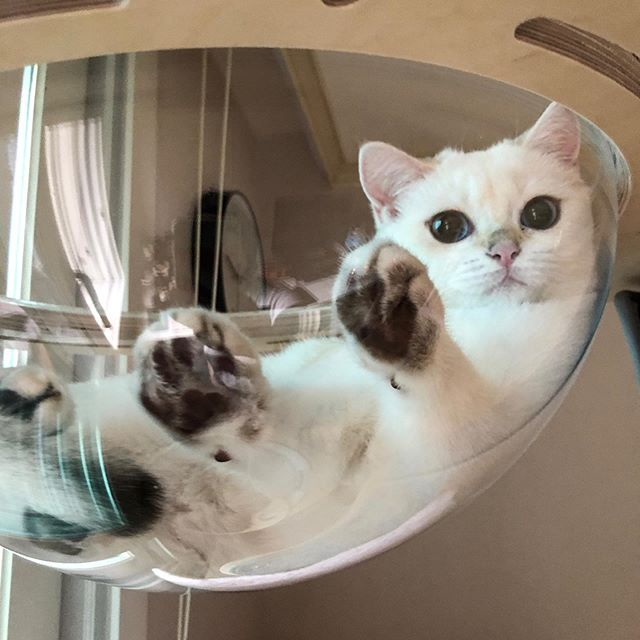cat: (347, 100, 611, 353)
